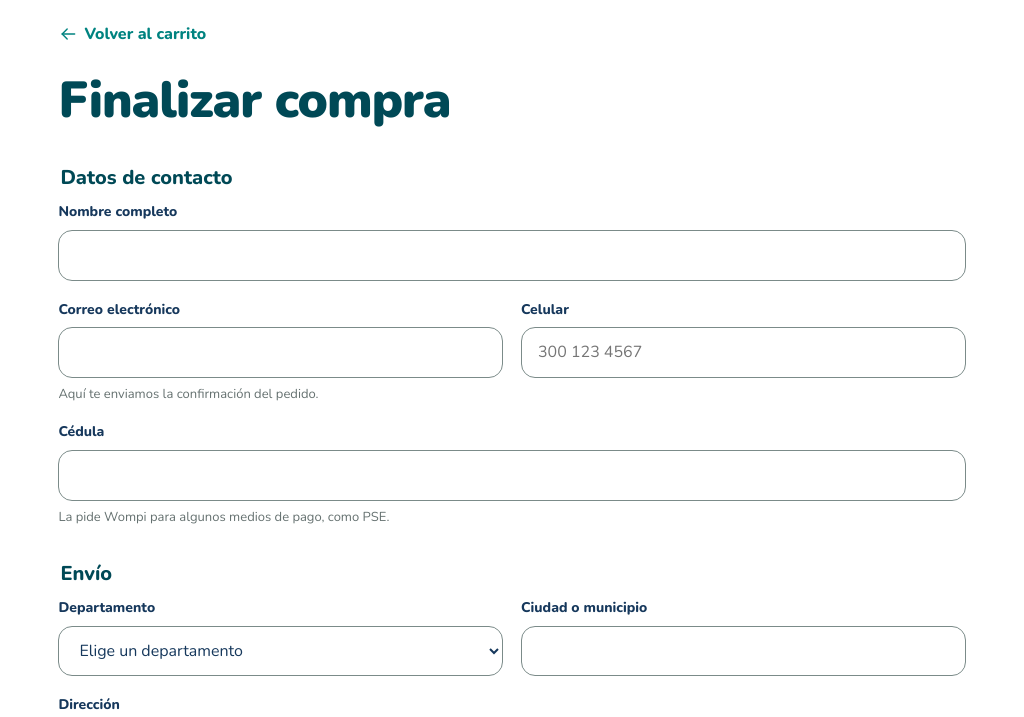
Test: CheckoutComponent › creates the order with clean data and sends the customer to Wompi
This screenshot has width=1024, height=717.
Type "Ana Pérez" into the field labelled "Nombre completo" at (512, 255), box top-left (58, 230), bottom-right (966, 281)
Type "ana@example.com" into the field labelled "Correo electrónico" at (281, 353), box top-left (58, 327), bottom-right (503, 378)
Type "+57 300 123 4567" into the field labelled "Celular" at (743, 353), box top-left (521, 327), bottom-right (966, 378)
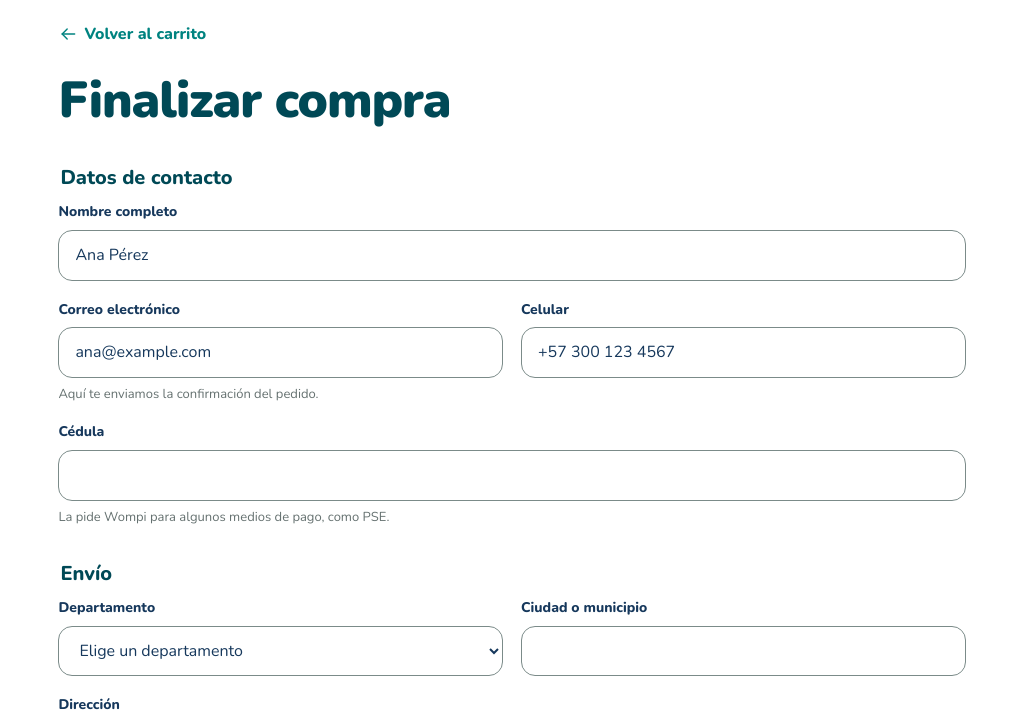
Type "1.020.304.050" into the field labelled "Cédula" at (512, 475), box top-left (58, 450), bottom-right (966, 501)
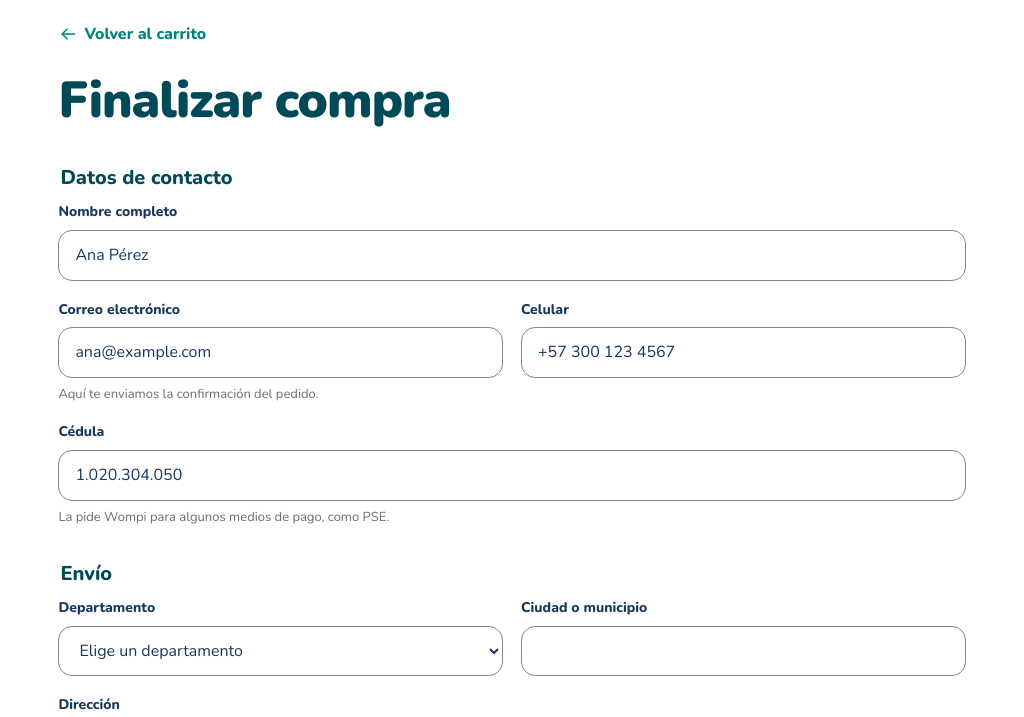
Select "Antioquia" in the dropdown labelled "Departamento" at (281, 651), box top-left (58, 626), bottom-right (503, 676)
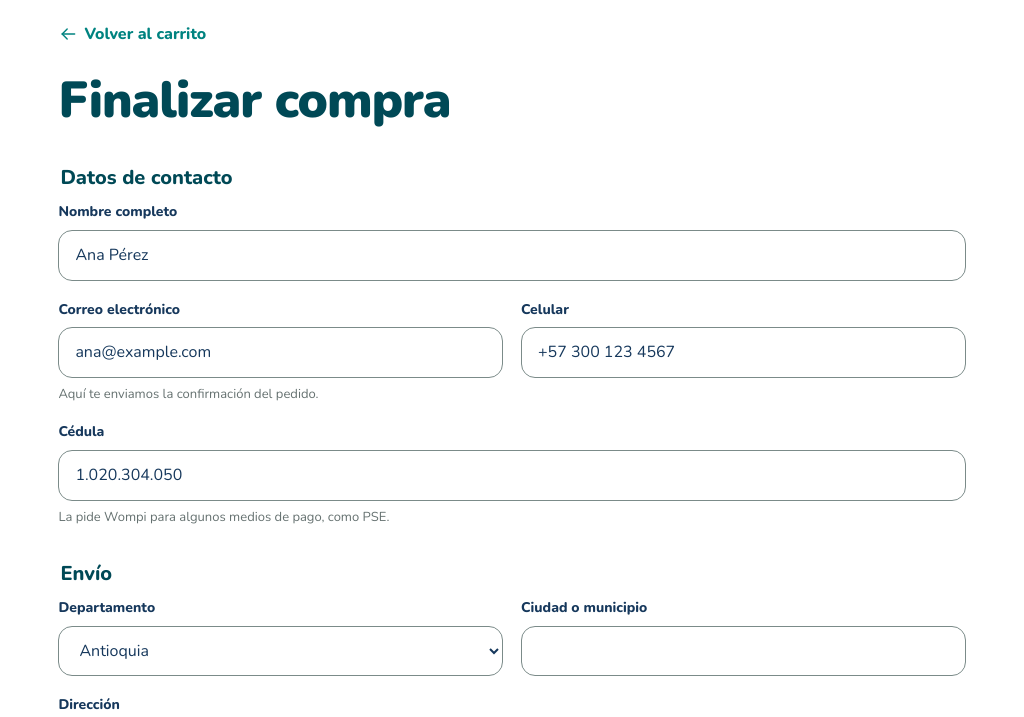
Type "Medellín" into the field labelled "Ciudad o municipio" at (743, 651), box top-left (521, 626), bottom-right (966, 676)
(page scrolled)
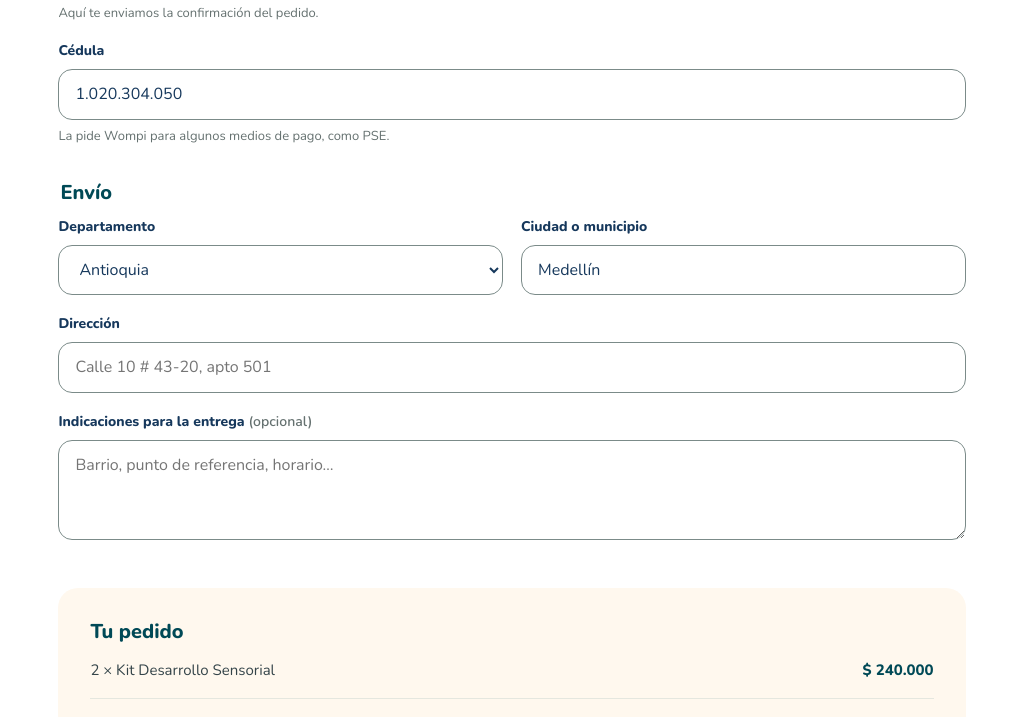
Type "Calle 10 # 43-20" into the field labelled "Dirección" at (512, 368), box top-left (58, 342), bottom-right (966, 393)
(page scrolled)
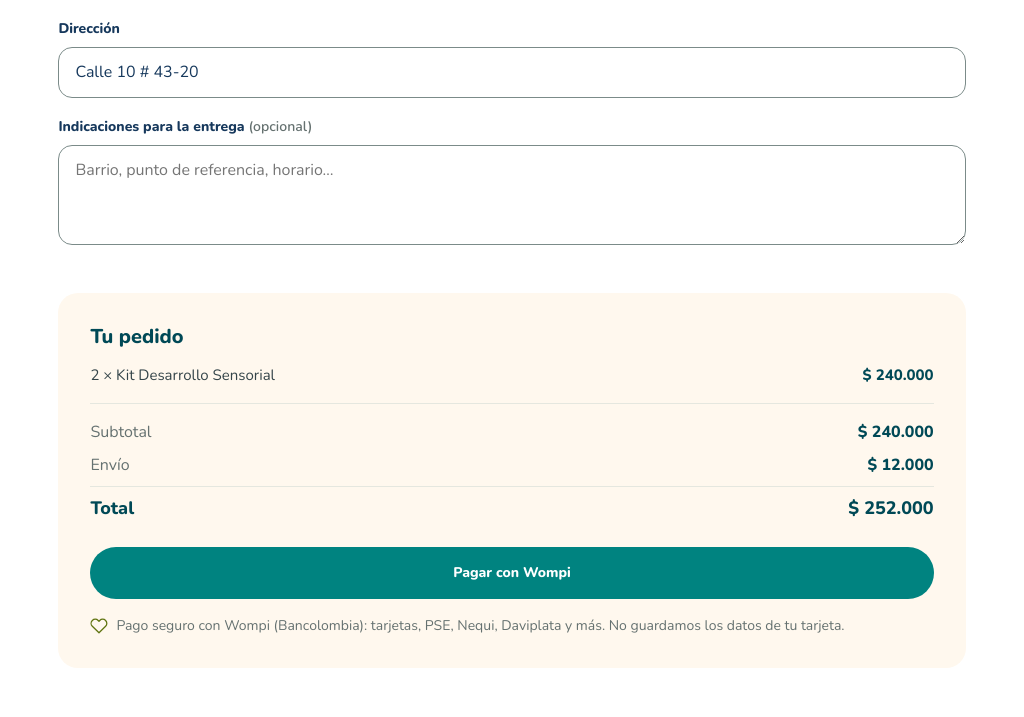
Click the button "Pagar con Wompi" at (512, 573), box top-left (90, 547), bottom-right (934, 599)
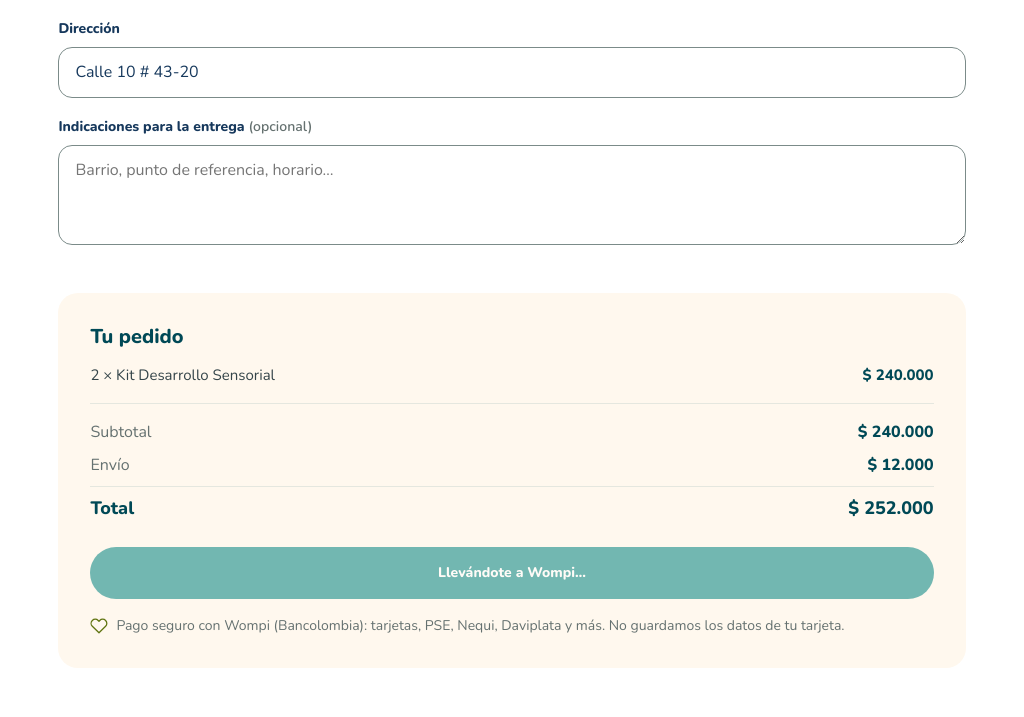
Expected: the button "Llevándote a Wompi…" is shown, top-left (90, 547), bottom-right (934, 599)
